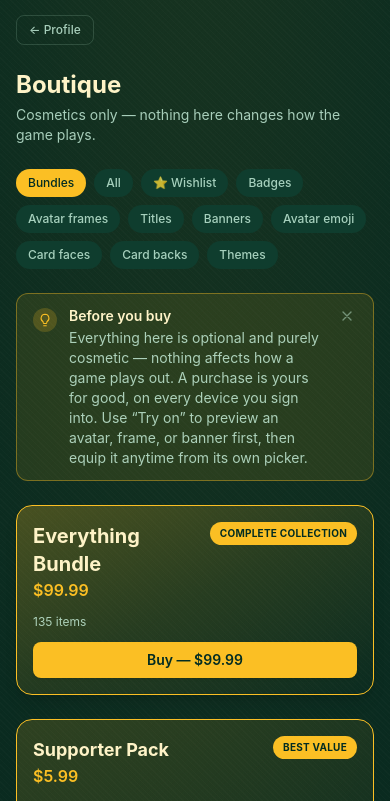
Test case: BoutiqueContent › signed in, owned: shows Owned + Equip linking to the real picker page
The image size is (390, 801).
Click the button "All". click: (114, 183)
box: [94,169,133,197]
(page scrolled)
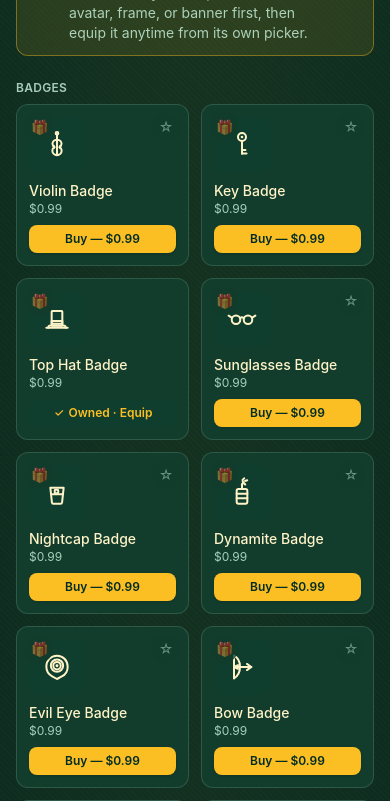
Check: the link "Owned · Equip" is shown, box [29,399,176,427]
